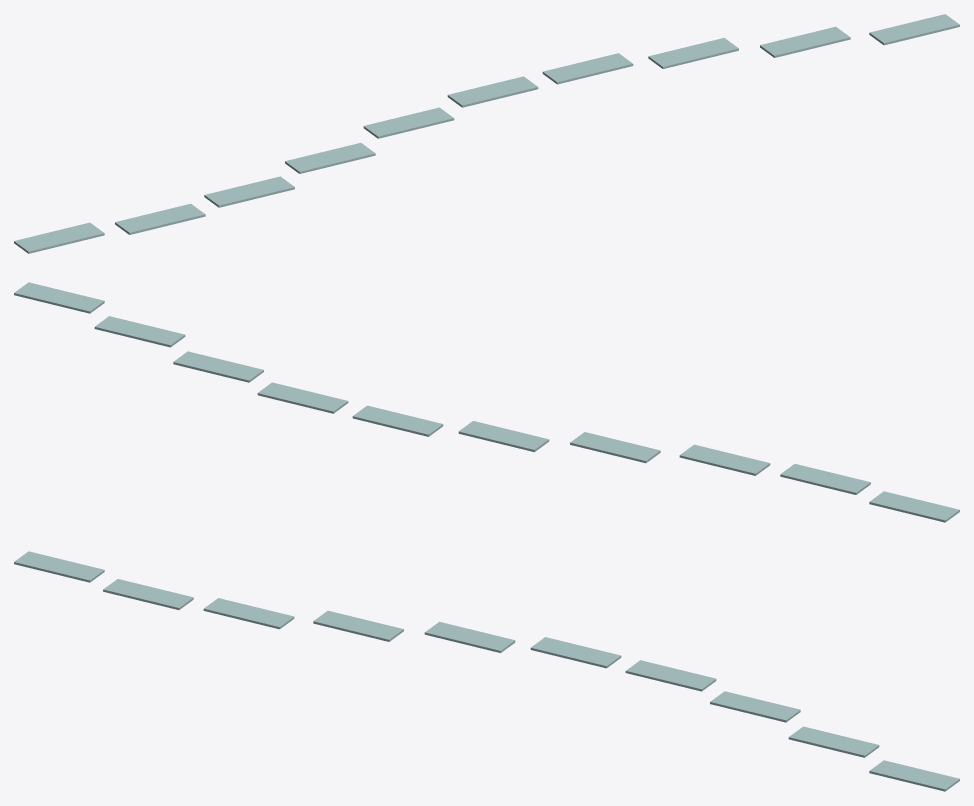
Rendered from ripple.glb.
3 views of the same model, one above another, from view 1: azimuth 30°, elevation 25°; view 2: azimuth 150°, elevation 25°; view 3: azimuth 330°, elevation 25° (orthographic).
Visible parts, largest first — view 1: ripple; view 2: ripple; view 3: ripple.
Part boxes in pixels (x1,y1,x2,y2): ripple: (14, 14, 959, 253); ripple: (14, 282, 959, 522); ripple: (14, 551, 959, 791).
Size of the model in its own units: 8.82 by 0.02 by 1.02.
